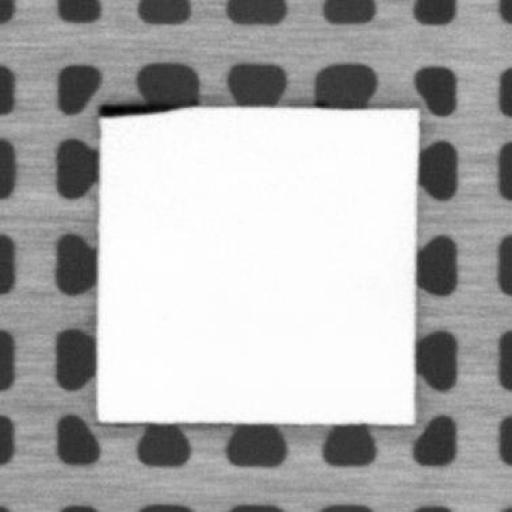DIE_BROKEN: (94, 100, 186, 117)
